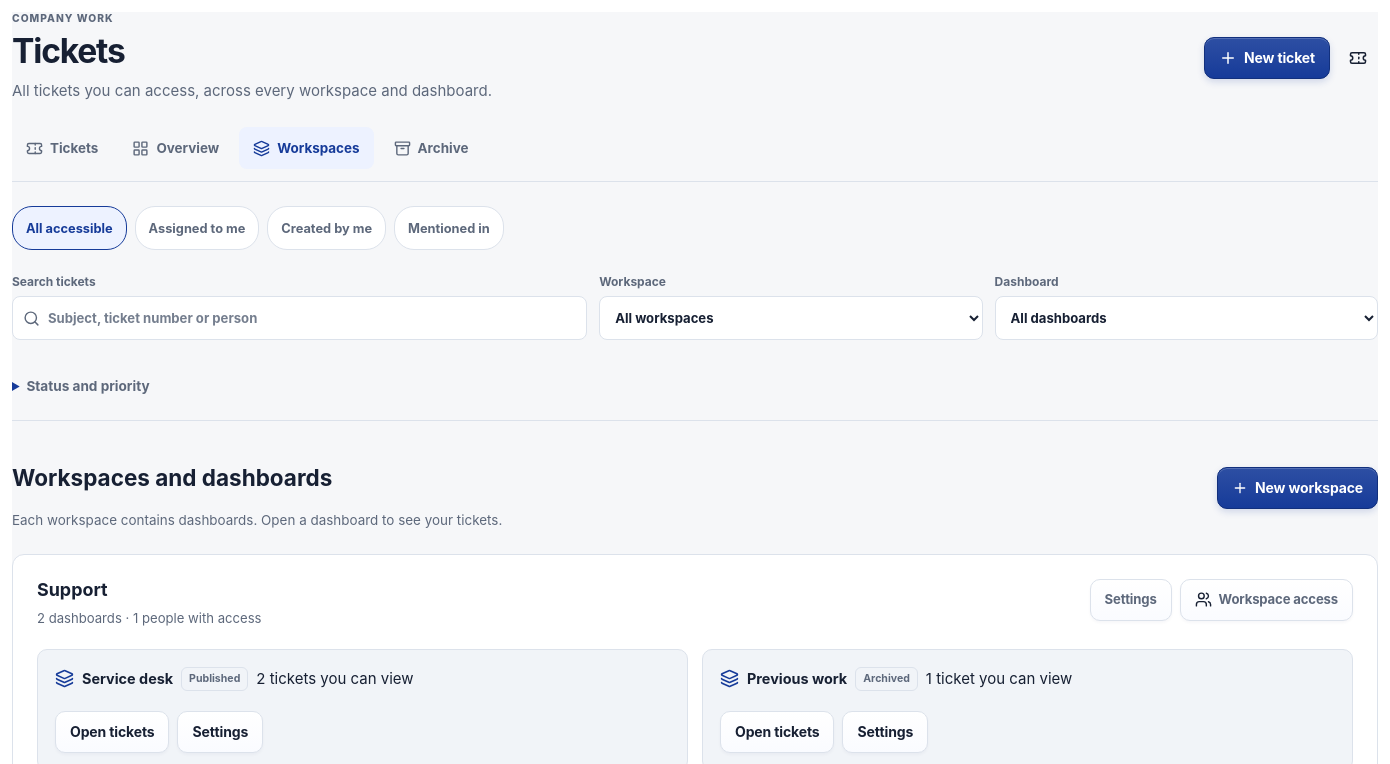
Scenario: Company ticket workspace › drills into a specific manager dashboard without clearing its selection
Click the button "Open tickets" below "Service desk" at (112, 732), box [55, 710, 170, 752]
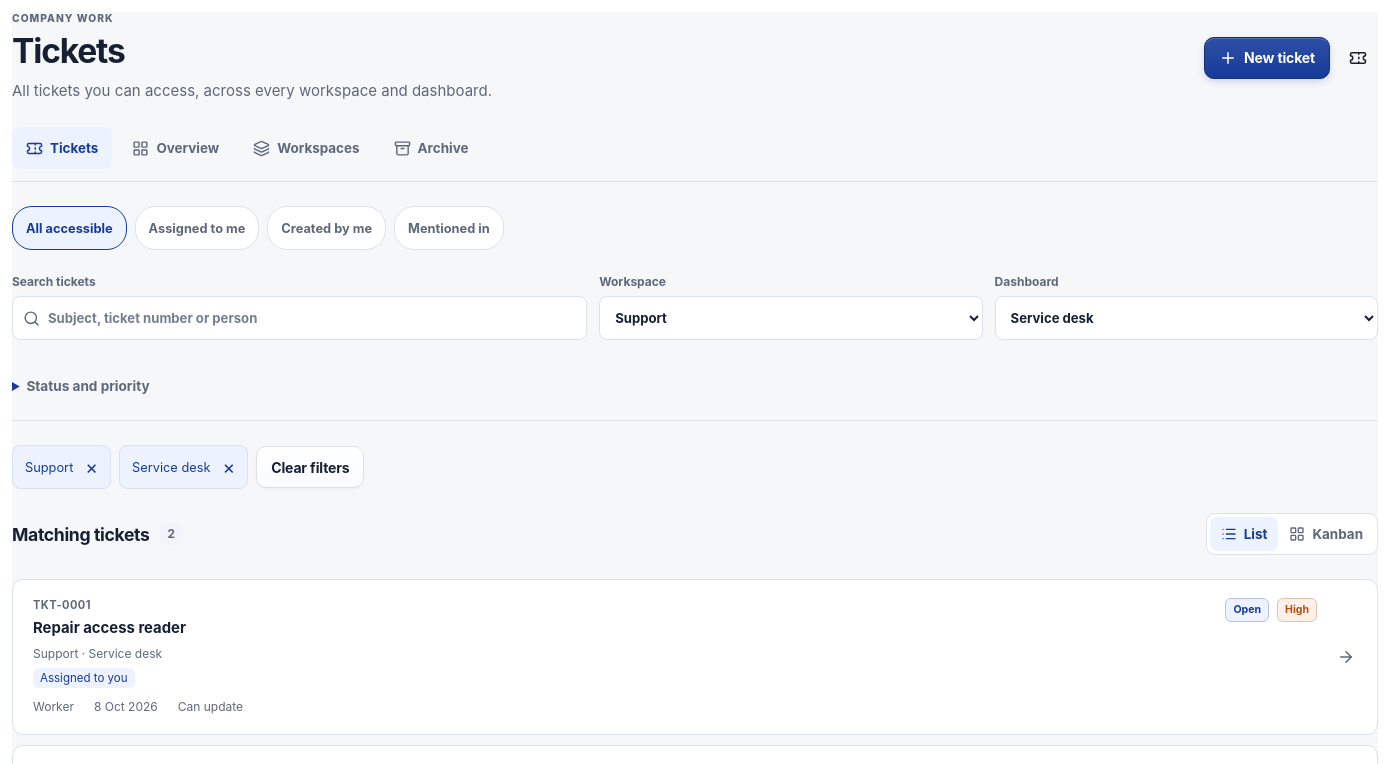
Expected: the dropdown labelled "Workspace" shows "Support", [599, 296, 982, 340]
Expected: the dropdown labelled "Dashboard" shows "Service desk", [995, 296, 1378, 340]
